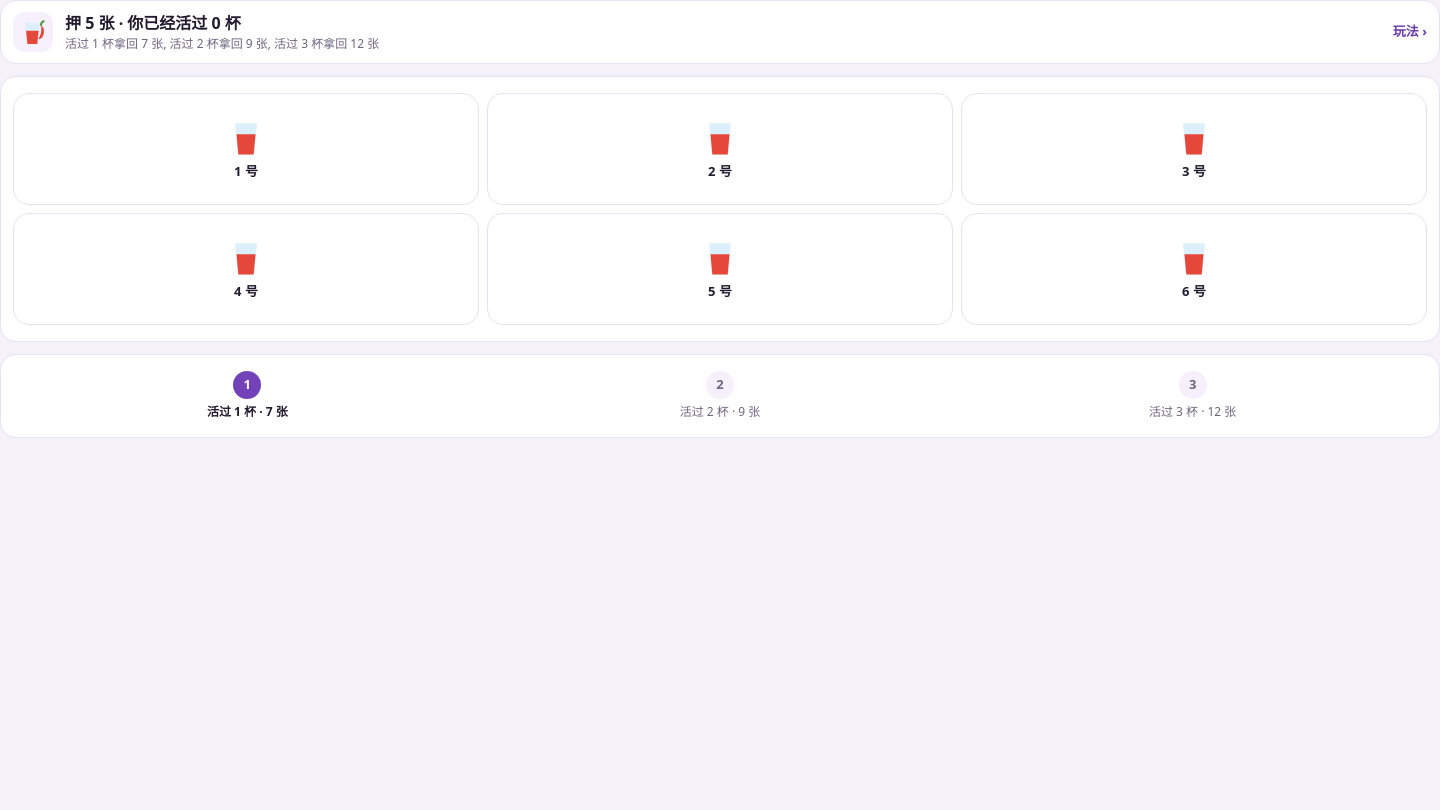
Test: DevilPanel › 输：提示押注没了和宿醉
This screenshot has width=1440, height=810.
Click the button with test id "devil-cup-0" at coordinates (246, 149), box [13,93,479,205]
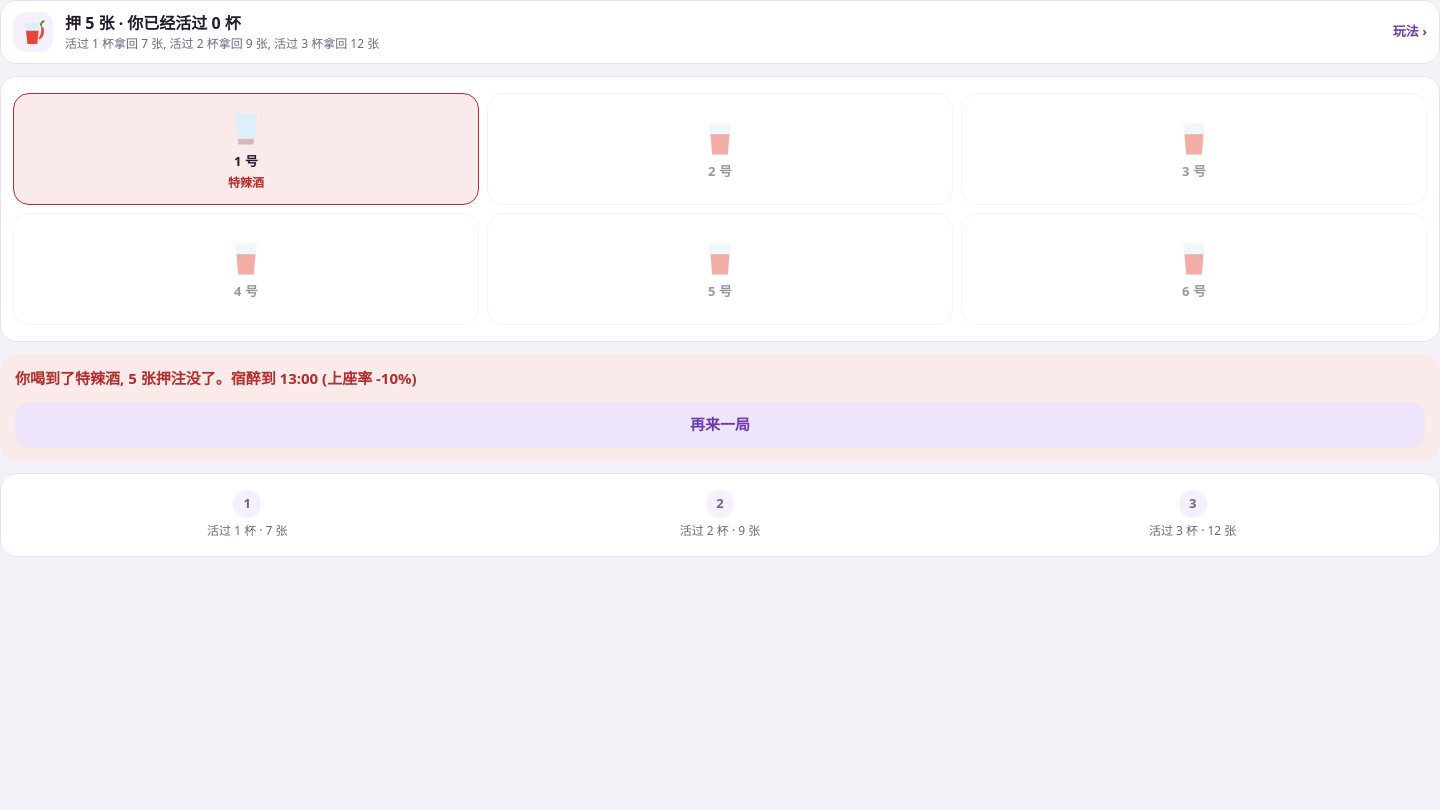
Now the element with test id "devil-result" shows "你喝到了特辣酒, 5 张押注没了", box [15,368,417,388]
Now the element with test id "devil-result" shows "宿醉", box [0,354,1439,460]
